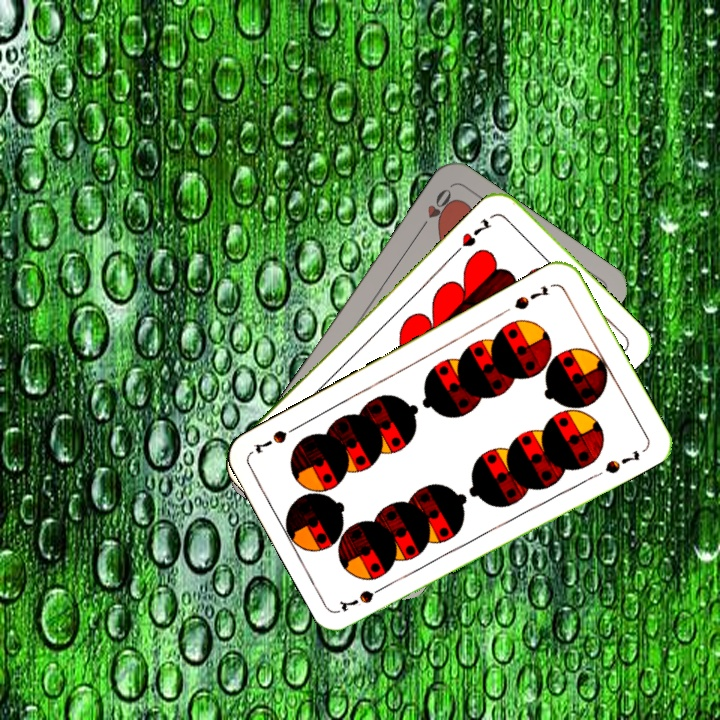H7: (458, 214, 494, 250)
HO: (414, 184, 457, 235)
S7: (336, 579, 392, 615), (510, 281, 552, 313)
